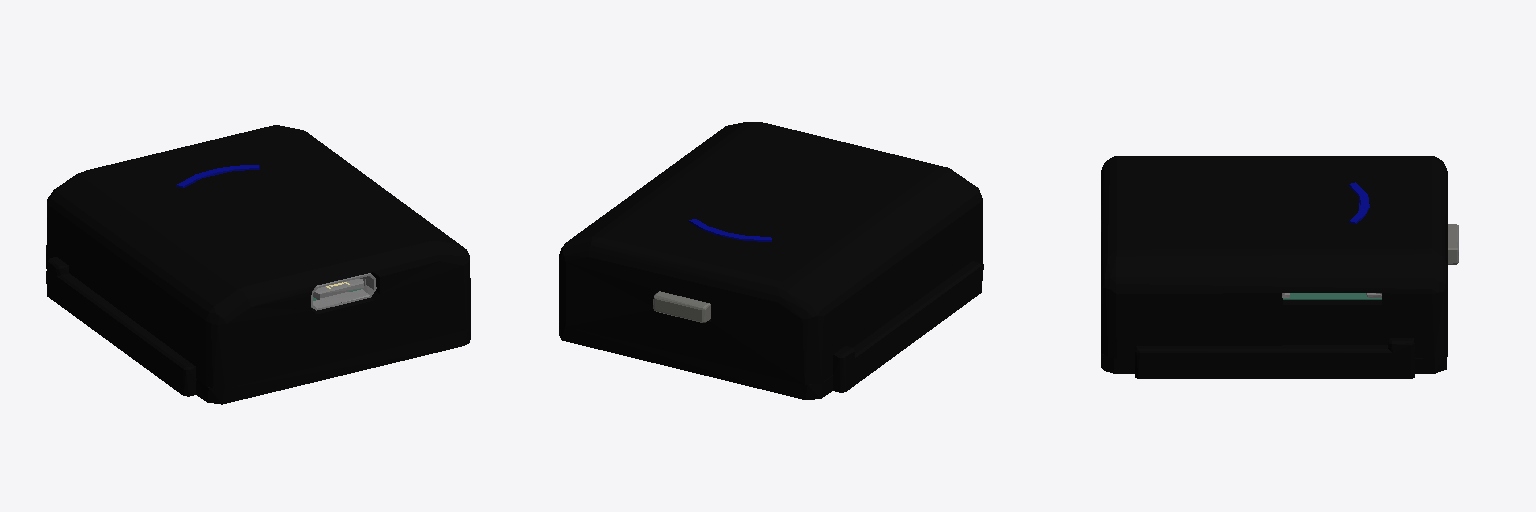
The picture shows the model from 3 angles: view 1: azimuth 30°, elevation 25°; view 2: azimuth 150°, elevation 25°; view 3: azimuth 270°, elevation 25°; orthographic projection.
Parts seen in each view (by area): view 1: DL3_standard_v1; view 2: DL3_standard_v1; view 3: DL3_standard_v1.
Boxes of the visible parts, box(x1,y1,x2,y2) form: DL3_standard_v1: box(46, 125, 470, 404); DL3_standard_v1: box(559, 122, 983, 399); DL3_standard_v1: box(1101, 156, 1458, 378).
Size of the model in its own units: 3.9 by 1.39 by 4.22.